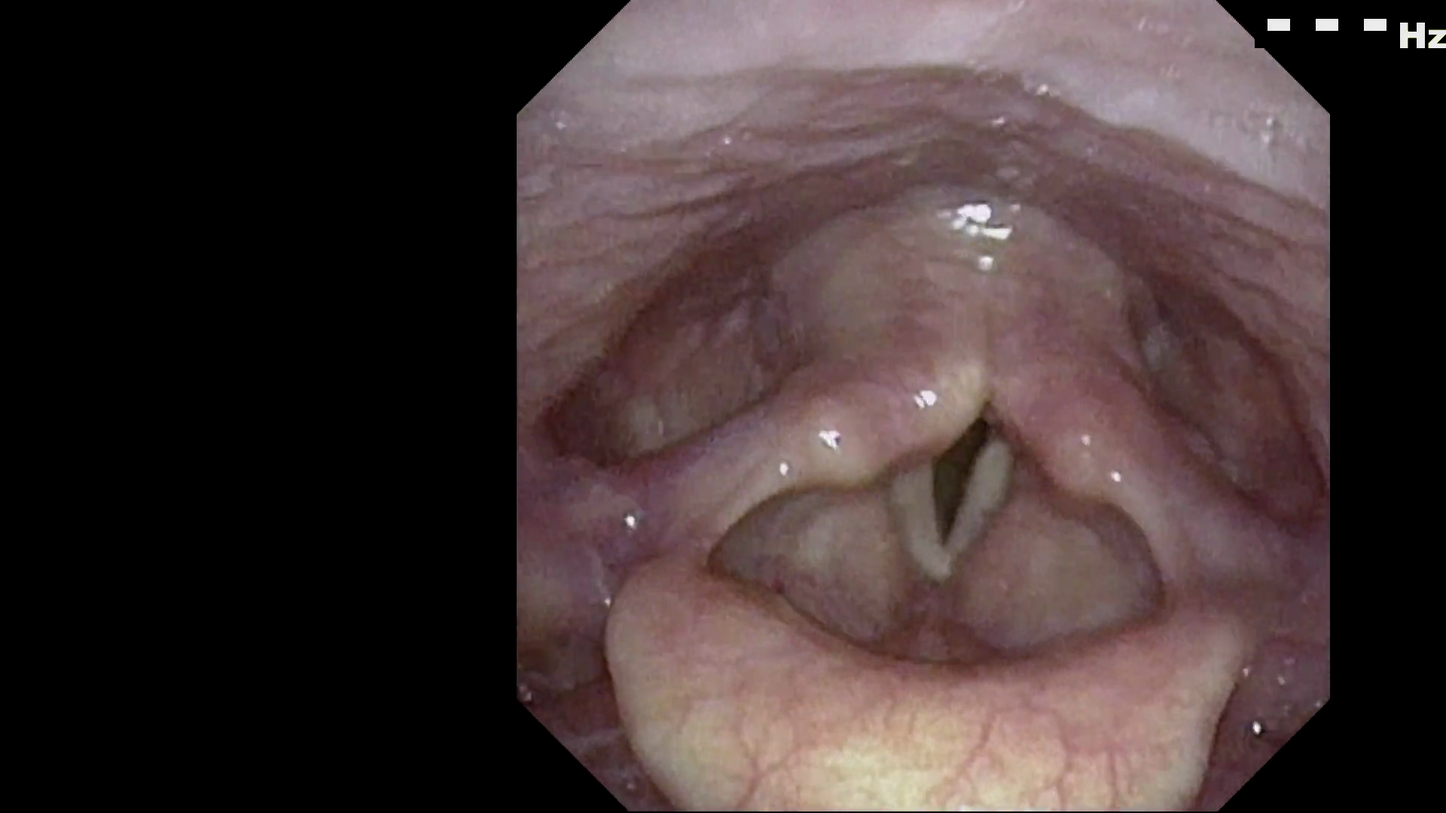epiglottis: (599, 524, 1237, 768)
trachea: (875, 377, 1054, 602)
